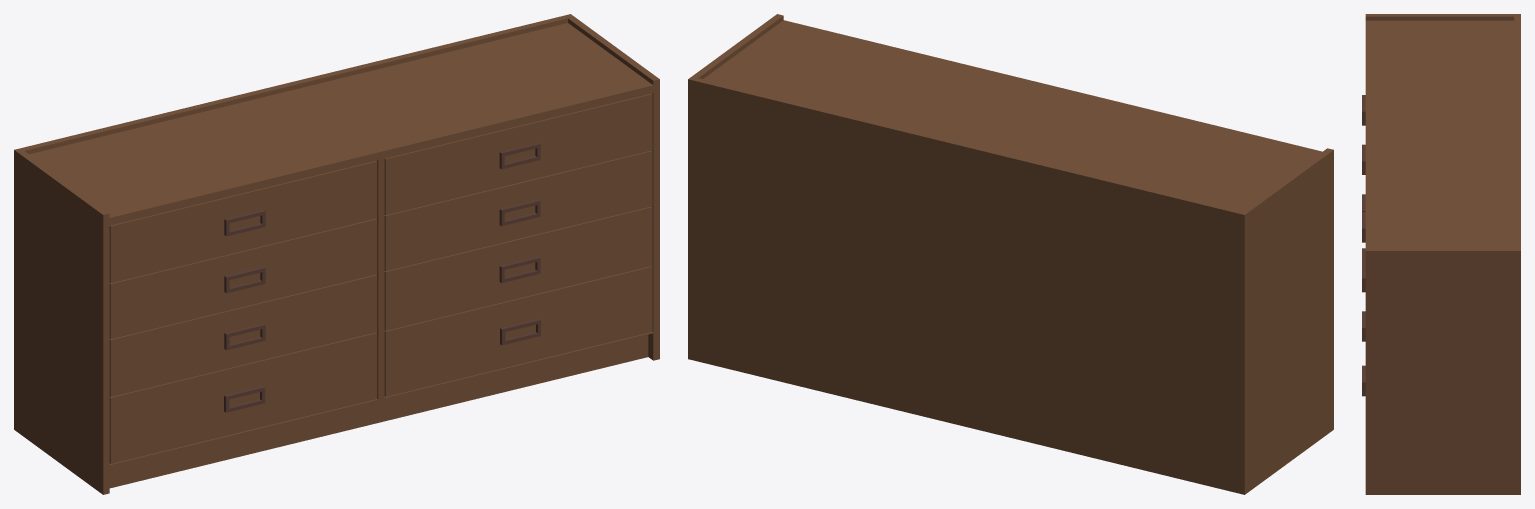
The model's file is double_chest_of_drawers.glb.
The picture shows the model from 3 angles, left to right: view 1: azimuth 30°, elevation 25°; view 2: azimuth 150°, elevation 25°; view 3: azimuth 270°, elevation 25°; orthographic projection. The views are drawn at different scales.
Visible parts, largest first — view 1: double_chest_of_drawers; view 2: double_chest_of_drawers; view 3: double_chest_of_drawers.
Part boxes in pixels (x1,y1,x2,y2): double_chest_of_drawers: (14, 14, 659, 494); double_chest_of_drawers: (688, 14, 1333, 494); double_chest_of_drawers: (1362, 14, 1520, 494).
Bounding box in the file's own units: 64 × 30.75 × 18.15.
